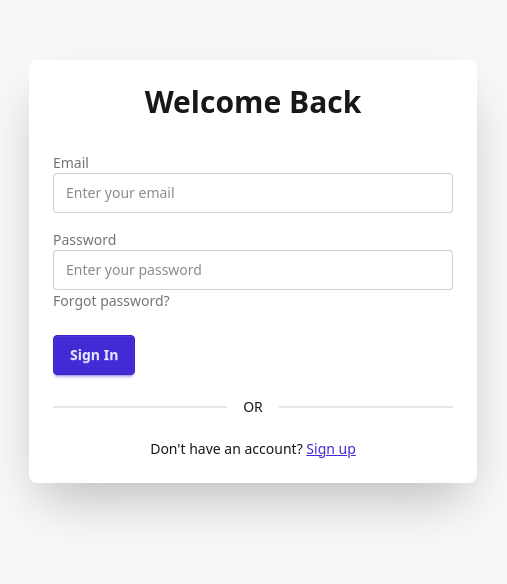
App Component › increments counter when increment button is clicked
// Login first
In the field with placeholder "Enter your email": (253, 192) 53,172 -> 453,212, type "test@example.com"
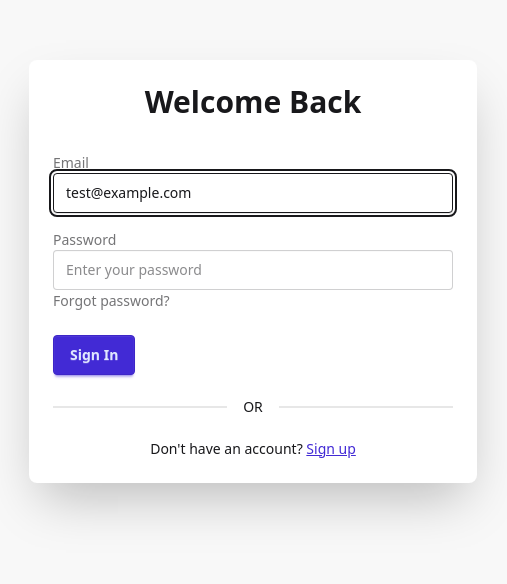
In the password field with placeholder "Enter your password": (253, 270) 53,250 -> 453,290, type "password123"
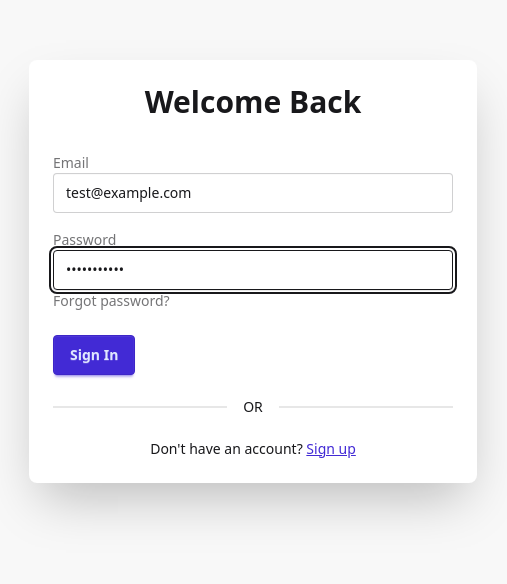
Click the button "Sign In": (94, 354) 53,334 -> 135,374
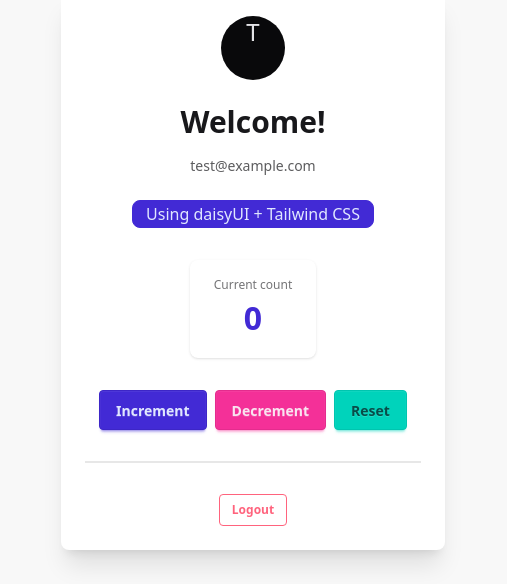
Expected: the heading "Welcome!" is shown, 180,104 -> 326,140
// Test counter
Click the button "Increment": (153, 410) 99,390 -> 207,430
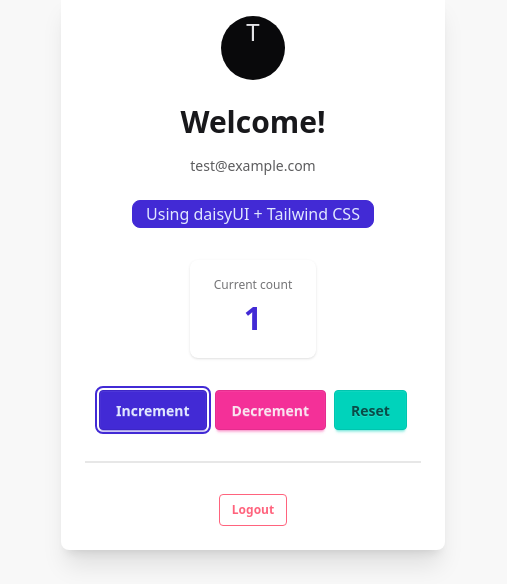
Expected: the text "1" is shown, 244,296 -> 262,339
